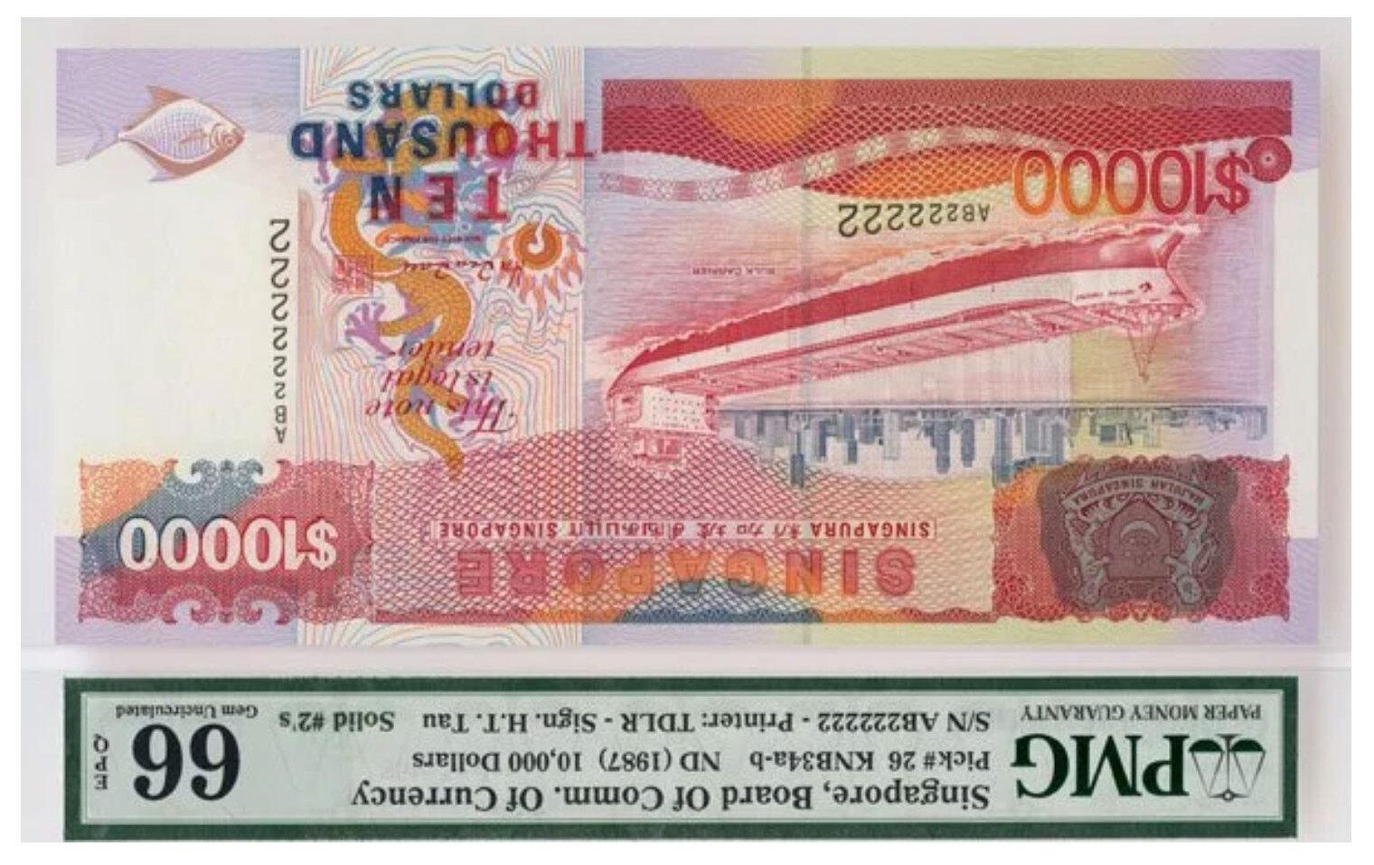10000SingaporeDollar: (23, 20, 1315, 635)
